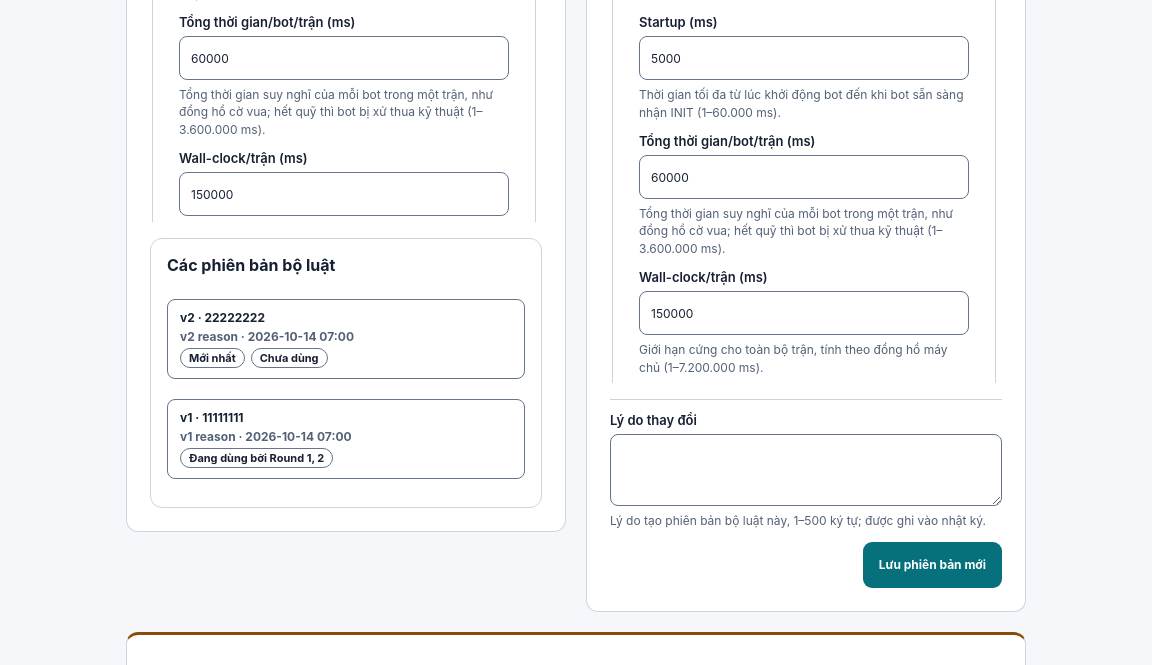
Test: RuleSetArchive › shows an error when the detail request fails and recovers on re-selecting the version
The width and height of the screenshot is (1152, 665).
(page scrolled)
Step 1. Click the button that starts with "v2 reason" → coordinates (346, 339), box [167,299,525,379]
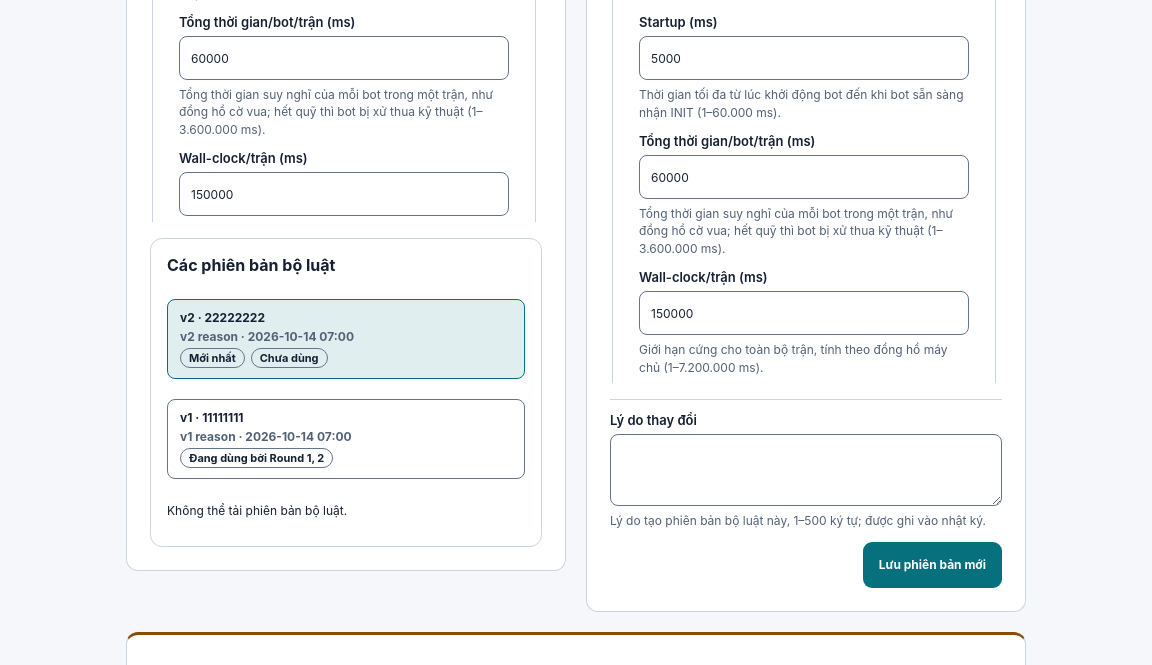
Expected: the text "Không thể tải phiên bản bộ luật." is shown, [167,503,347,518]
Step 2. Click the button that starts with "v2 reason" → coordinates (346, 339), box [167,299,525,379]
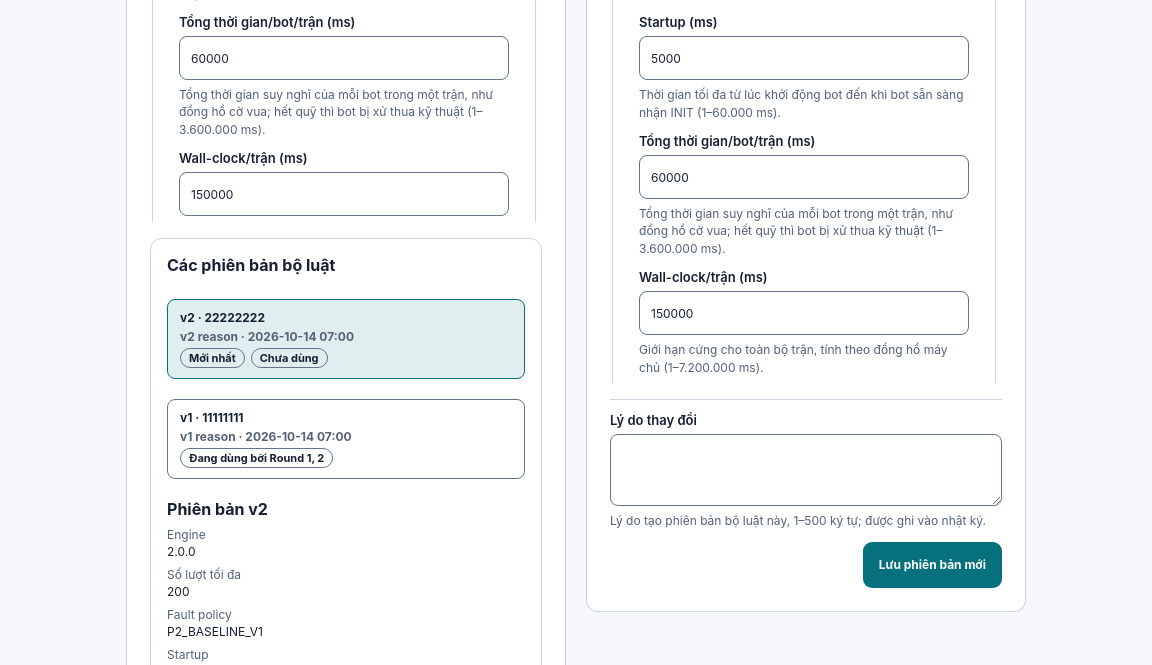
Expected: the heading "Phiên bản v2" is shown, [167,499,268,519]
